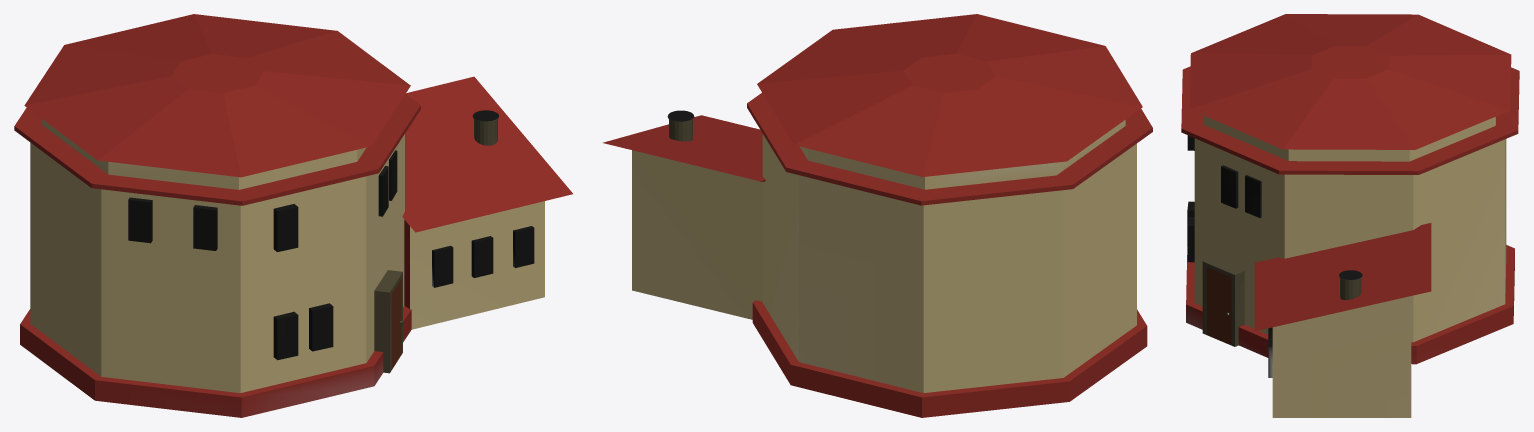
The model's file is mini_catedral.fbx.
3 views of the same model, side by side, from view 1: azimuth 30°, elevation 25°; view 2: azimuth 150°, elevation 25°; view 3: azimuth 270°, elevation 25° (orthographic). The views are drawn at different scales.
Parts seen in each view (by area): view 1: mini_catedral; view 2: mini_catedral; view 3: mini_catedral.
Part boxes in pixels (left/top/right/bottom): mini_catedral: left=14, top=14, right=572, bottom=417; mini_catedral: left=602, top=14, right=1152, bottom=417; mini_catedral: left=1181, top=14, right=1519, bottom=417.
Size of the model in its own units: 1384 by 740 by 976.
